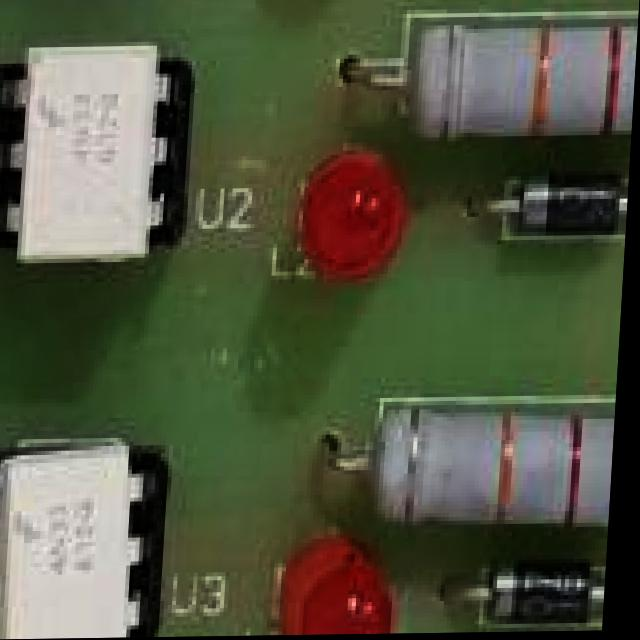IC: (0, 42, 188, 276), (0, 446, 183, 640)
LED: (278, 511, 416, 636), (298, 139, 409, 292)
diode: (491, 177, 631, 266), (470, 553, 614, 634)
resistor: (362, 389, 622, 543), (393, 9, 639, 147)
